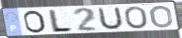2: (72, 7, 100, 33)
L: (49, 8, 74, 34)
O: (22, 9, 48, 34), (149, 4, 175, 29), (123, 6, 149, 30)
U: (98, 6, 125, 31)
